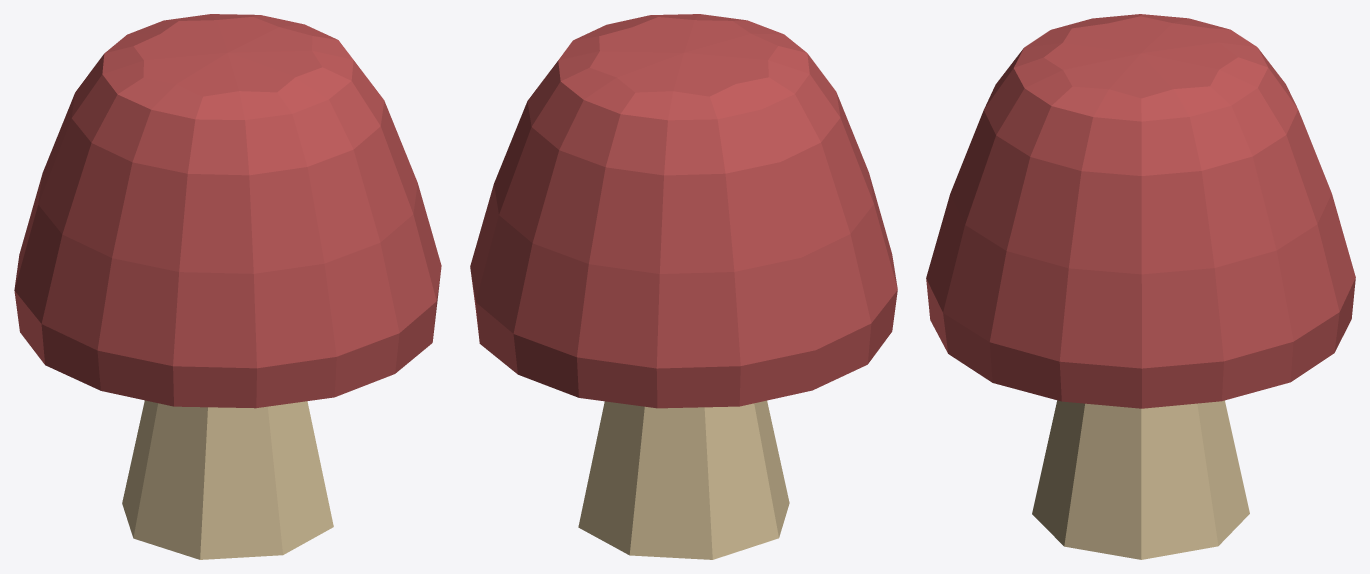
File: Mushroom_16.fbx
The picture shows the model from 3 angles, left to right: view 1: azimuth 30°, elevation 25°; view 2: azimuth 150°, elevation 25°; view 3: azimuth 270°, elevation 25°; orthographic projection.
Parts seen in each view (by area): view 1: Mushroom_16; view 2: Mushroom_16; view 3: Mushroom_16.
Boxes of the visible parts, left/top/right/bottom form: Mushroom_16: left=14, top=14, right=441, bottom=559; Mushroom_16: left=470, top=14, right=897, bottom=559; Mushroom_16: left=926, top=14, right=1355, bottom=559.
Bounding box in the file's own units: 15.61 × 18.46 × 15.61.
